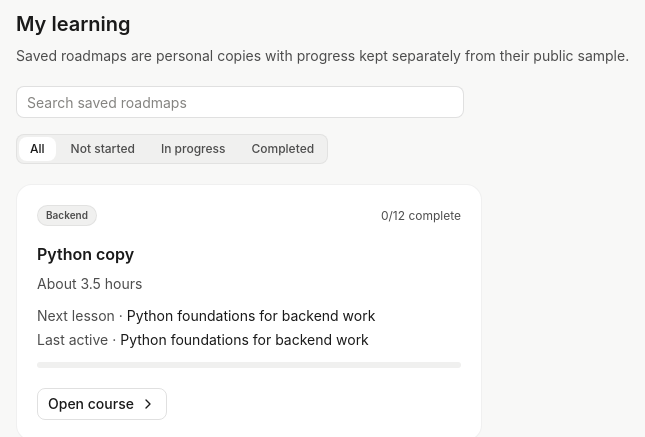
Test: collection study status › shows an attempted but incomplete activity as in progress while completion remains zero
Click the tab "In progress": (193, 149) [150,137,236,161]
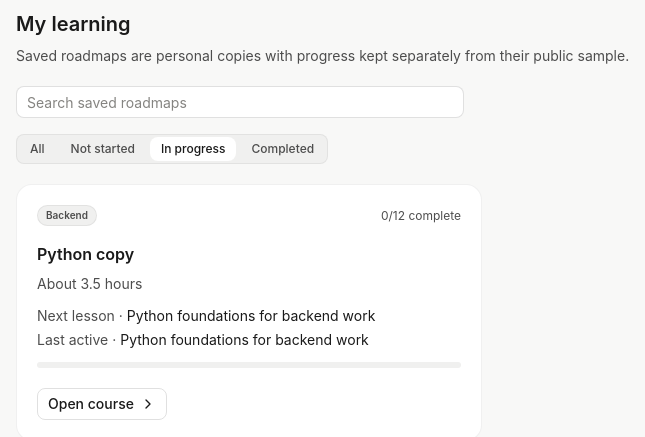
Check: the text "0/12 complete" is shown, box [381,208,461,224]
Check: the button "Open course" is shown, box [37,388,167,420]
Click the tab "Not started": (103, 149) [60,137,146,161]
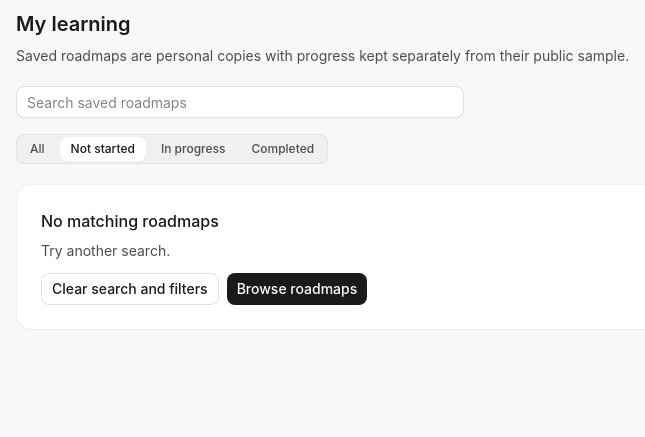
Check: the heading "Python copy" is gone
Check: the heading "No matching roadmaps" is shown, box [41,211,219,231]
